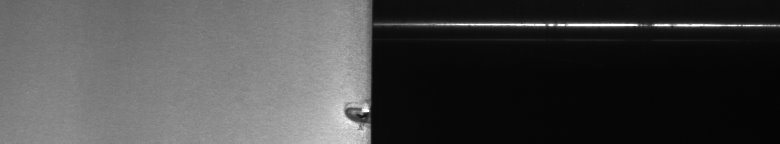hb: (337, 95, 360, 135)
